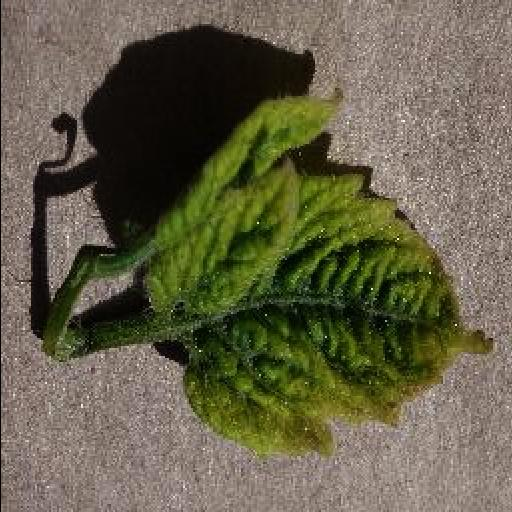disease_tomato: (140, 88, 498, 454)
